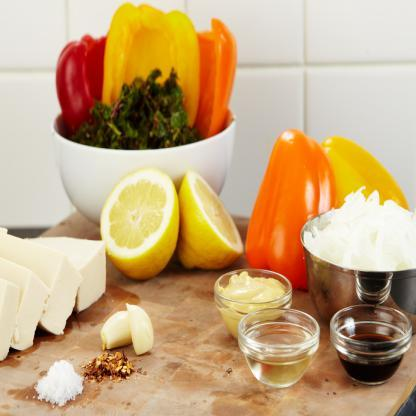lemon: (101, 166, 179, 280), (177, 171, 242, 270)
